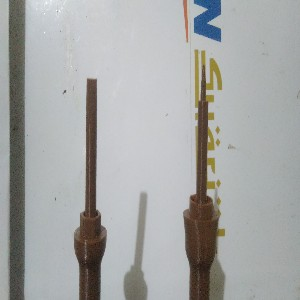obeng: (73, 76, 108, 300)
solder: (182, 63, 221, 300)
